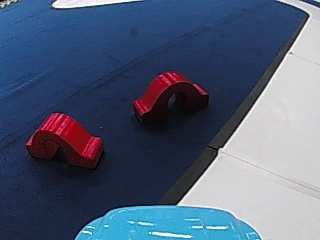bridge: (21, 110, 112, 168), (127, 66, 212, 125)
